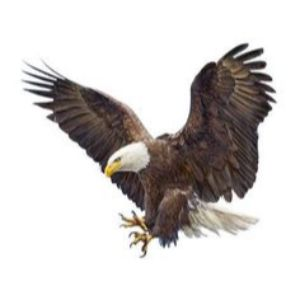eagle: (13, 46, 281, 260)
